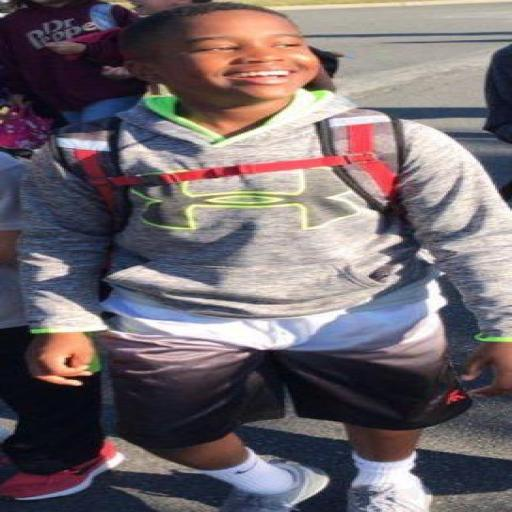person: (21, 3, 511, 511), (0, 151, 122, 499), (0, 0, 144, 123), (49, 29, 131, 79), (484, 46, 511, 143)
